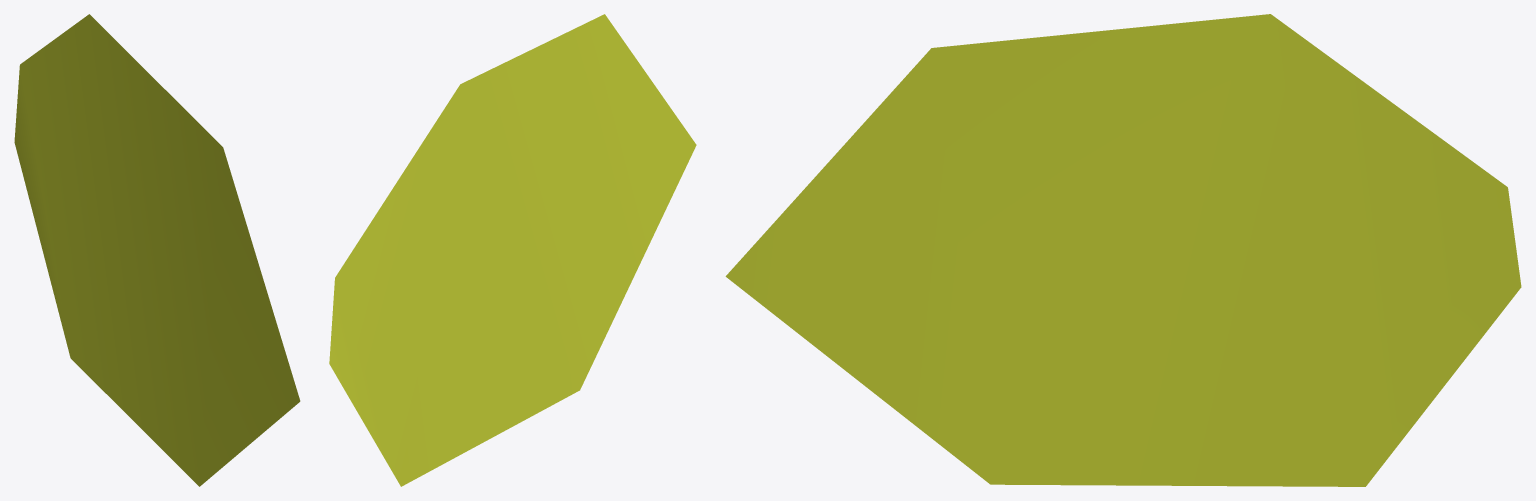
File: b_polySurface724_b_BMW_i8Elite_2_710.glb
The picture shows the model from 3 angles, left to right: view 1: azimuth 30°, elevation 25°; view 2: azimuth 150°, elevation 25°; view 3: azimuth 270°, elevation 25°; orthographic projection. The views are drawn at different scales.
Parts seen in each view (by area): view 1: b:polySurface724_b:BMW_i8Elite_2017CalliperGloss_Material1_0; view 2: b:polySurface724_b:BMW_i8Elite_2017CalliperGloss_Material1_0; view 3: b:polySurface724_b:BMW_i8Elite_2017CalliperGloss_Material1_0.
Part boxes in pixels (x1=…): b:polySurface724_b:BMW_i8Elite_2017CalliperGloss_Material1_0: x1=14, y1=14, x2=300, y2=486; b:polySurface724_b:BMW_i8Elite_2017CalliperGloss_Material1_0: x1=329, y1=14, x2=696, y2=486; b:polySurface724_b:BMW_i8Elite_2017CalliperGloss_Material1_0: x1=725, y1=14, x2=1521, y2=486.
Size of the model in its own units: 0.00611 by 0.0566 by 0.0862.
